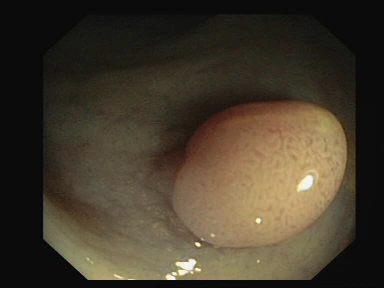polyp: (136, 74, 370, 263)
